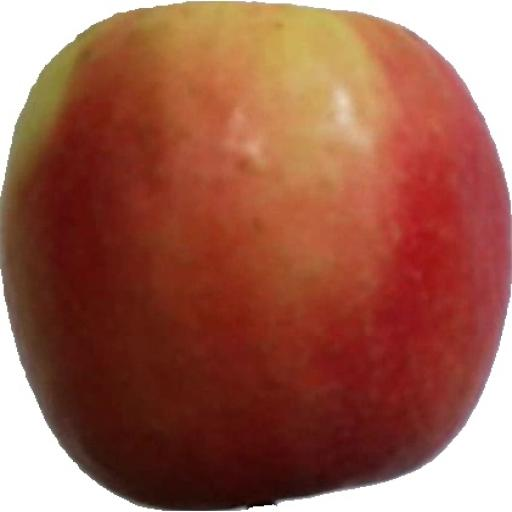apple-ripe: (9, 0, 512, 512)
